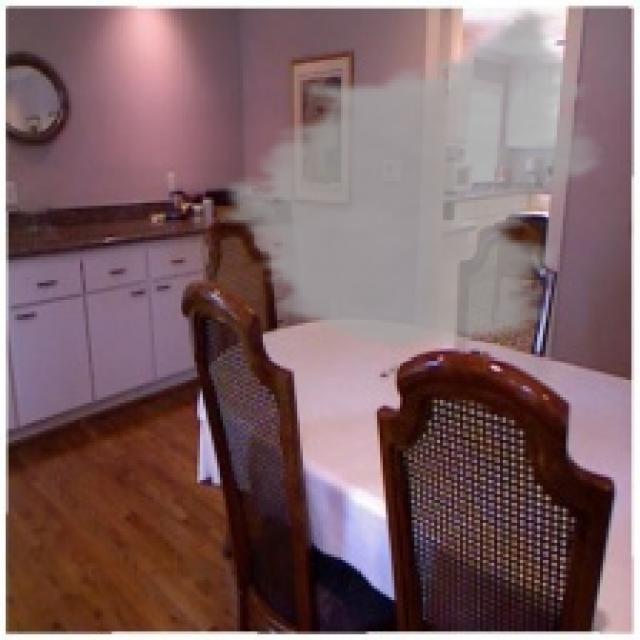smoke: (212, 6, 614, 354)
